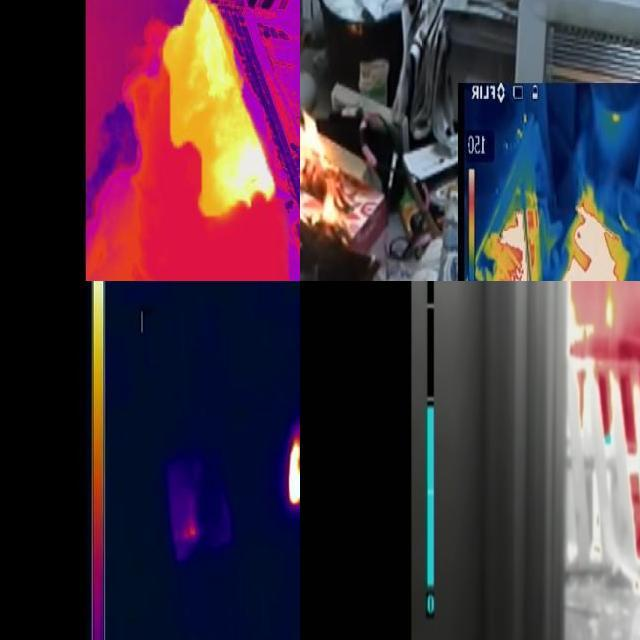fire: (155, 1, 276, 227), (567, 282, 640, 457), (539, 202, 631, 284), (484, 208, 536, 282), (286, 420, 301, 506)
